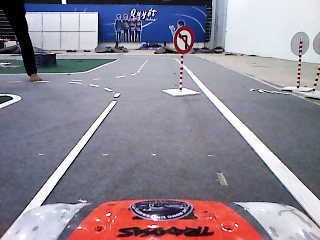ban: (173, 25, 194, 54)
